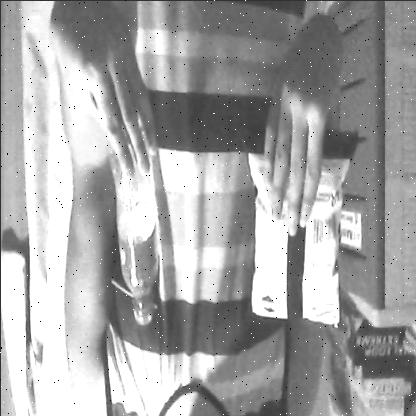Plastic Bottle: (104, 117, 165, 342)
